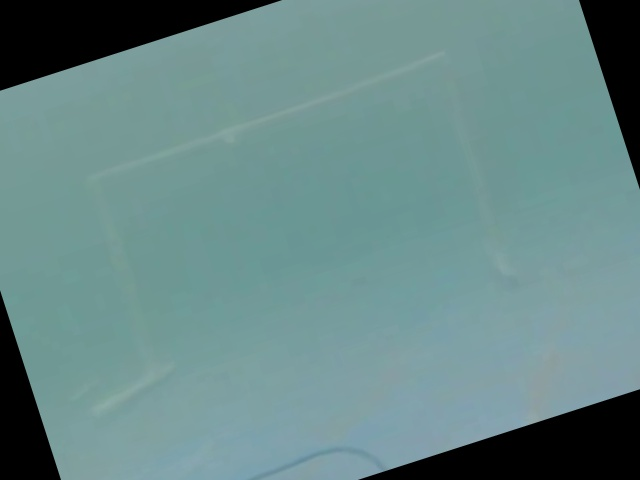gate: (43, 42, 531, 410)
